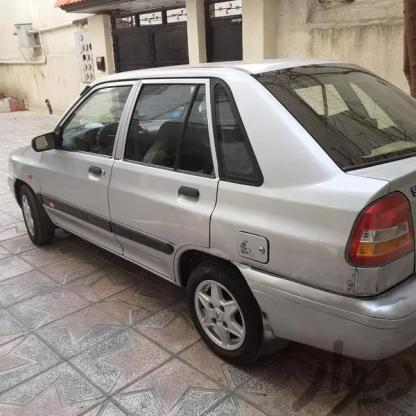Car: (0, 50, 416, 354)
